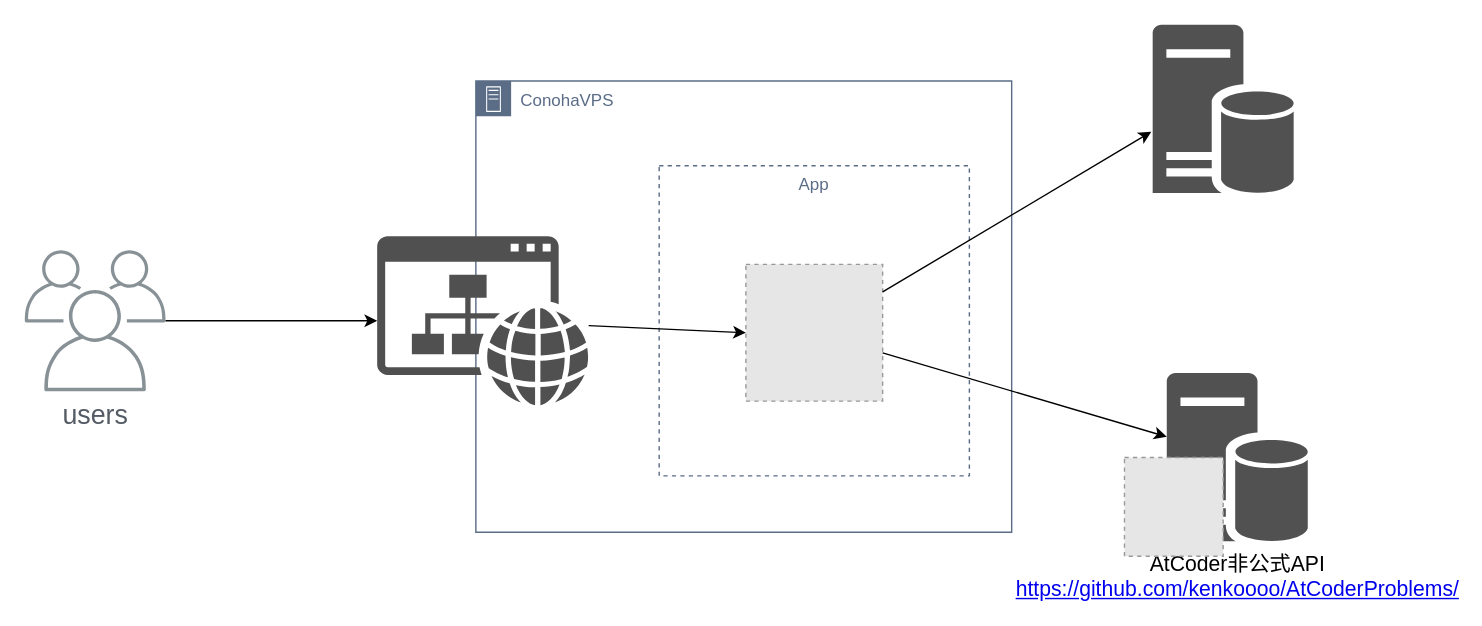
Some shapes in this 1482 by 626 pixel diagram are drawn without their labels. Grey dashed boxes stand in for pictures. Each missing label, with the centre of its shape:
"AtCoder /json" belongs at point 1222,108.
"WebSite" belongs at point 482,320.
